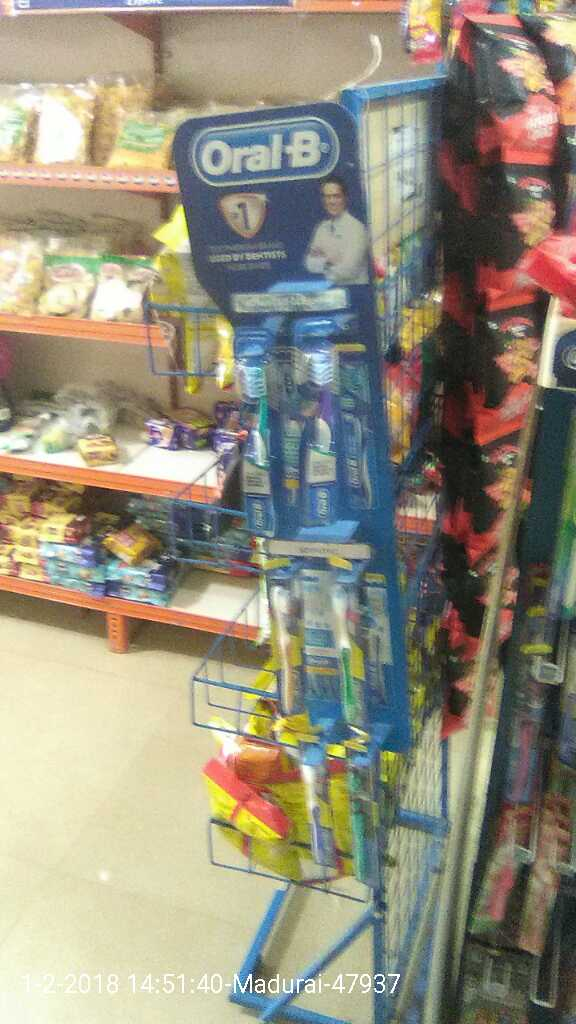oralb: (232, 348, 282, 548), (293, 342, 347, 521), (266, 577, 304, 717), (332, 580, 368, 724)
